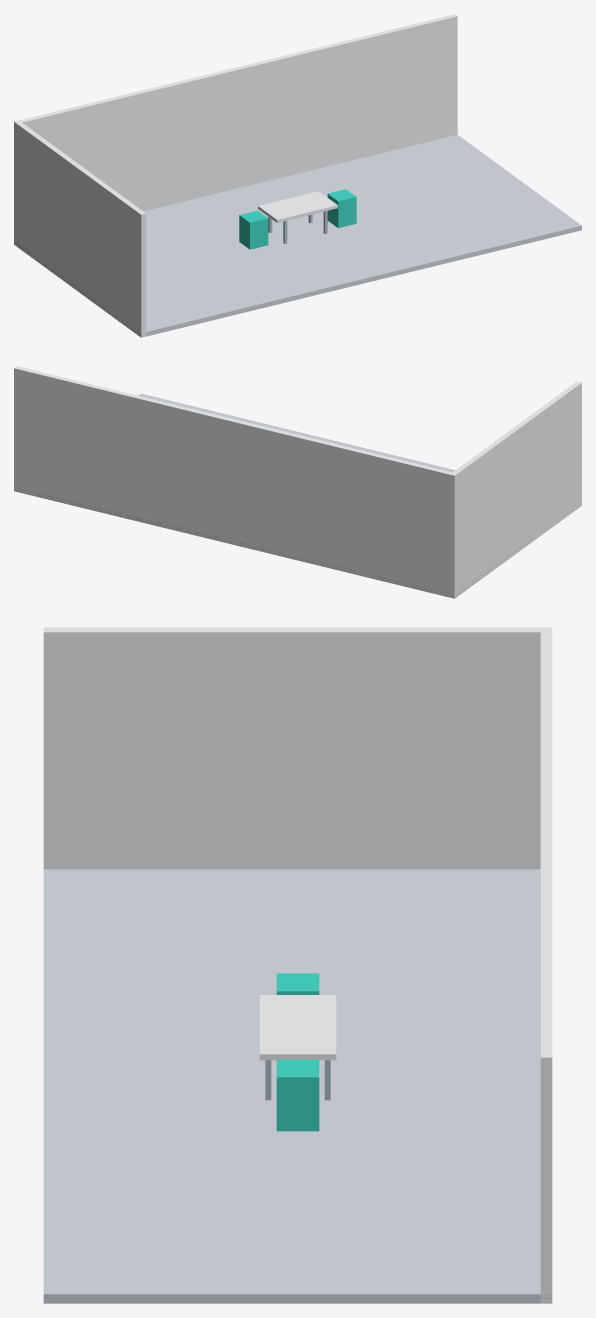
3 renders of one model, top to bottom at view 1: azimuth 30°, elevation 25°; view 2: azimuth 150°, elevation 25°; view 3: azimuth 270°, elevation 25°, orthographic. The views are drawn at different scales.
Parts seen in each view (by area): view 1: Exhibition Booth Concept; view 2: Exhibition Booth Concept; view 3: Exhibition Booth Concept.
Part boxes in pixels (x1=…): Exhibition Booth Concept: x1=14, y1=14, x2=581, y2=337; Exhibition Booth Concept: x1=14, y1=366, x2=581, y2=598; Exhibition Booth Concept: x1=43, y1=627, x2=552, y2=1303.
Bounding box in the file's own units: 12 × 3.2 × 6.
